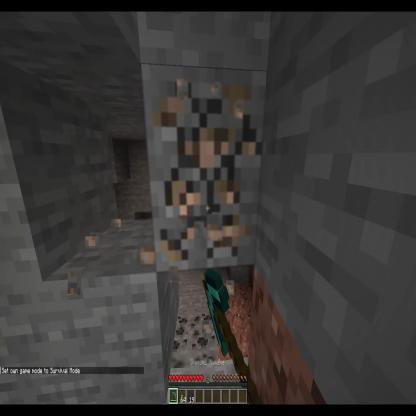coal ore: (188, 308, 216, 349), (170, 312, 189, 350), (190, 351, 218, 364), (168, 352, 190, 368)
iron ore: (138, 71, 266, 280)
